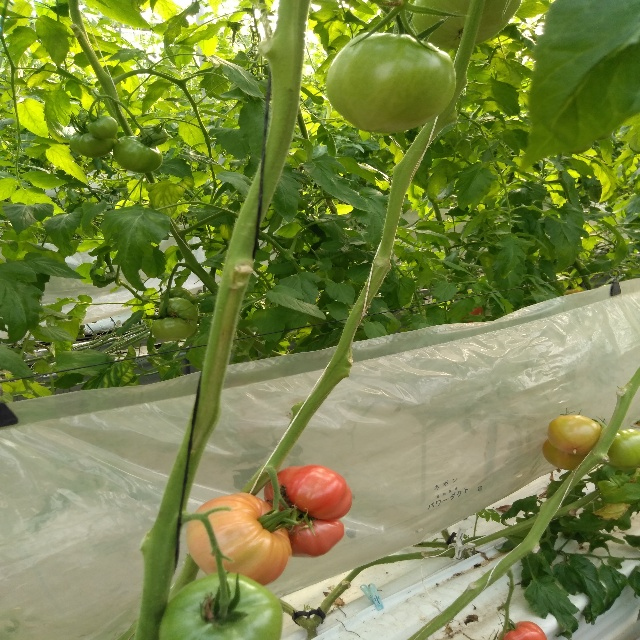b_fully_ripened: (264, 464, 353, 558), (497, 621, 547, 640)
b_green: (325, 31, 456, 133), (159, 572, 283, 640), (412, 0, 522, 50), (151, 297, 198, 342), (113, 135, 163, 173), (603, 428, 640, 471), (69, 127, 117, 159), (161, 287, 198, 311), (87, 114, 118, 139), (140, 124, 169, 145)
b_half_ripened: (186, 492, 291, 587), (547, 415, 602, 454), (543, 438, 589, 470)
